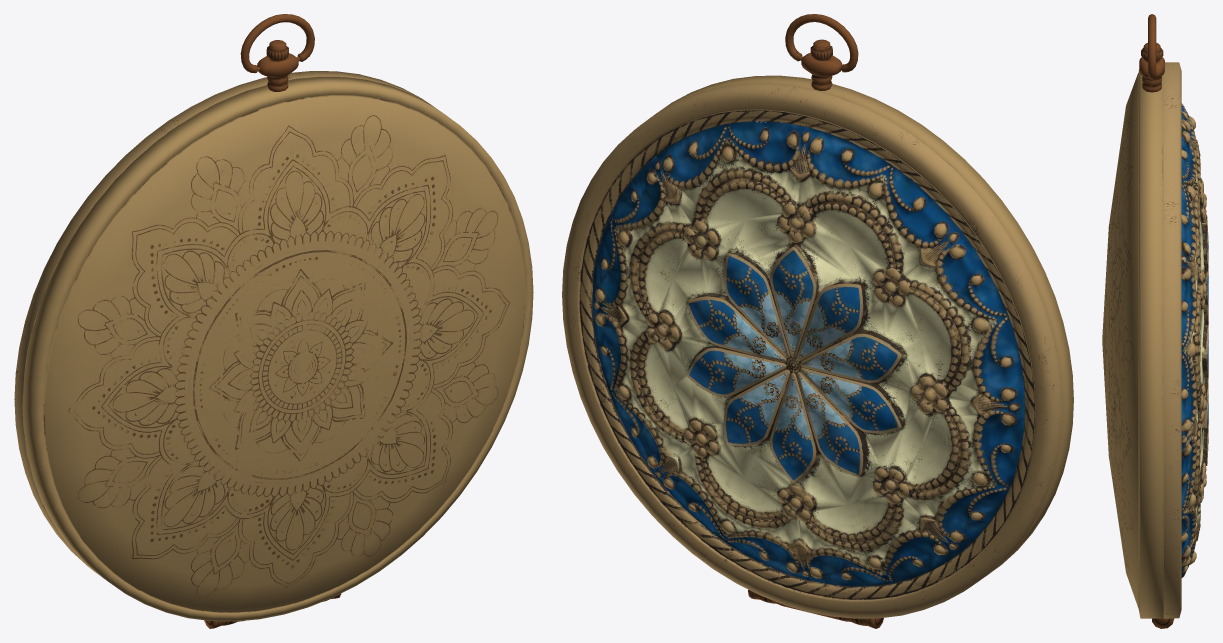
The model's file is reloj-bolsillo-transformed.glb.
The picture shows the model from 3 angles, left to right: view 1: azimuth 30°, elevation 25°; view 2: azimuth 150°, elevation 25°; view 3: azimuth 270°, elevation 25°; orthographic projection. The views are drawn at different scales.
Parts seen in each view (by area): view 1: 0, front_cap_LP, 2; view 2: front_cap_LP, 0, 2; view 3: 0, front_cap_LP, 2, 1.
Part boxes in pixels (x1,y1,x2,y2): 0: (22,77,533,621); front_cap_LP: (14,71,429,571); 2: (204,14,341,628); front_cap_LP: (562,84,1061,618); 0: (649,75,1073,572); 2: (748,14,883,628); 0: (1102,69,1162,618); front_cap_LP: (1163,62,1208,618); 2: (1139,14,1174,628); 1: (1163,74,1163,616).
Bounding box in the file's own units: 1.99 × 2.29 × 0.3812.
6 materials, 5 textured.
